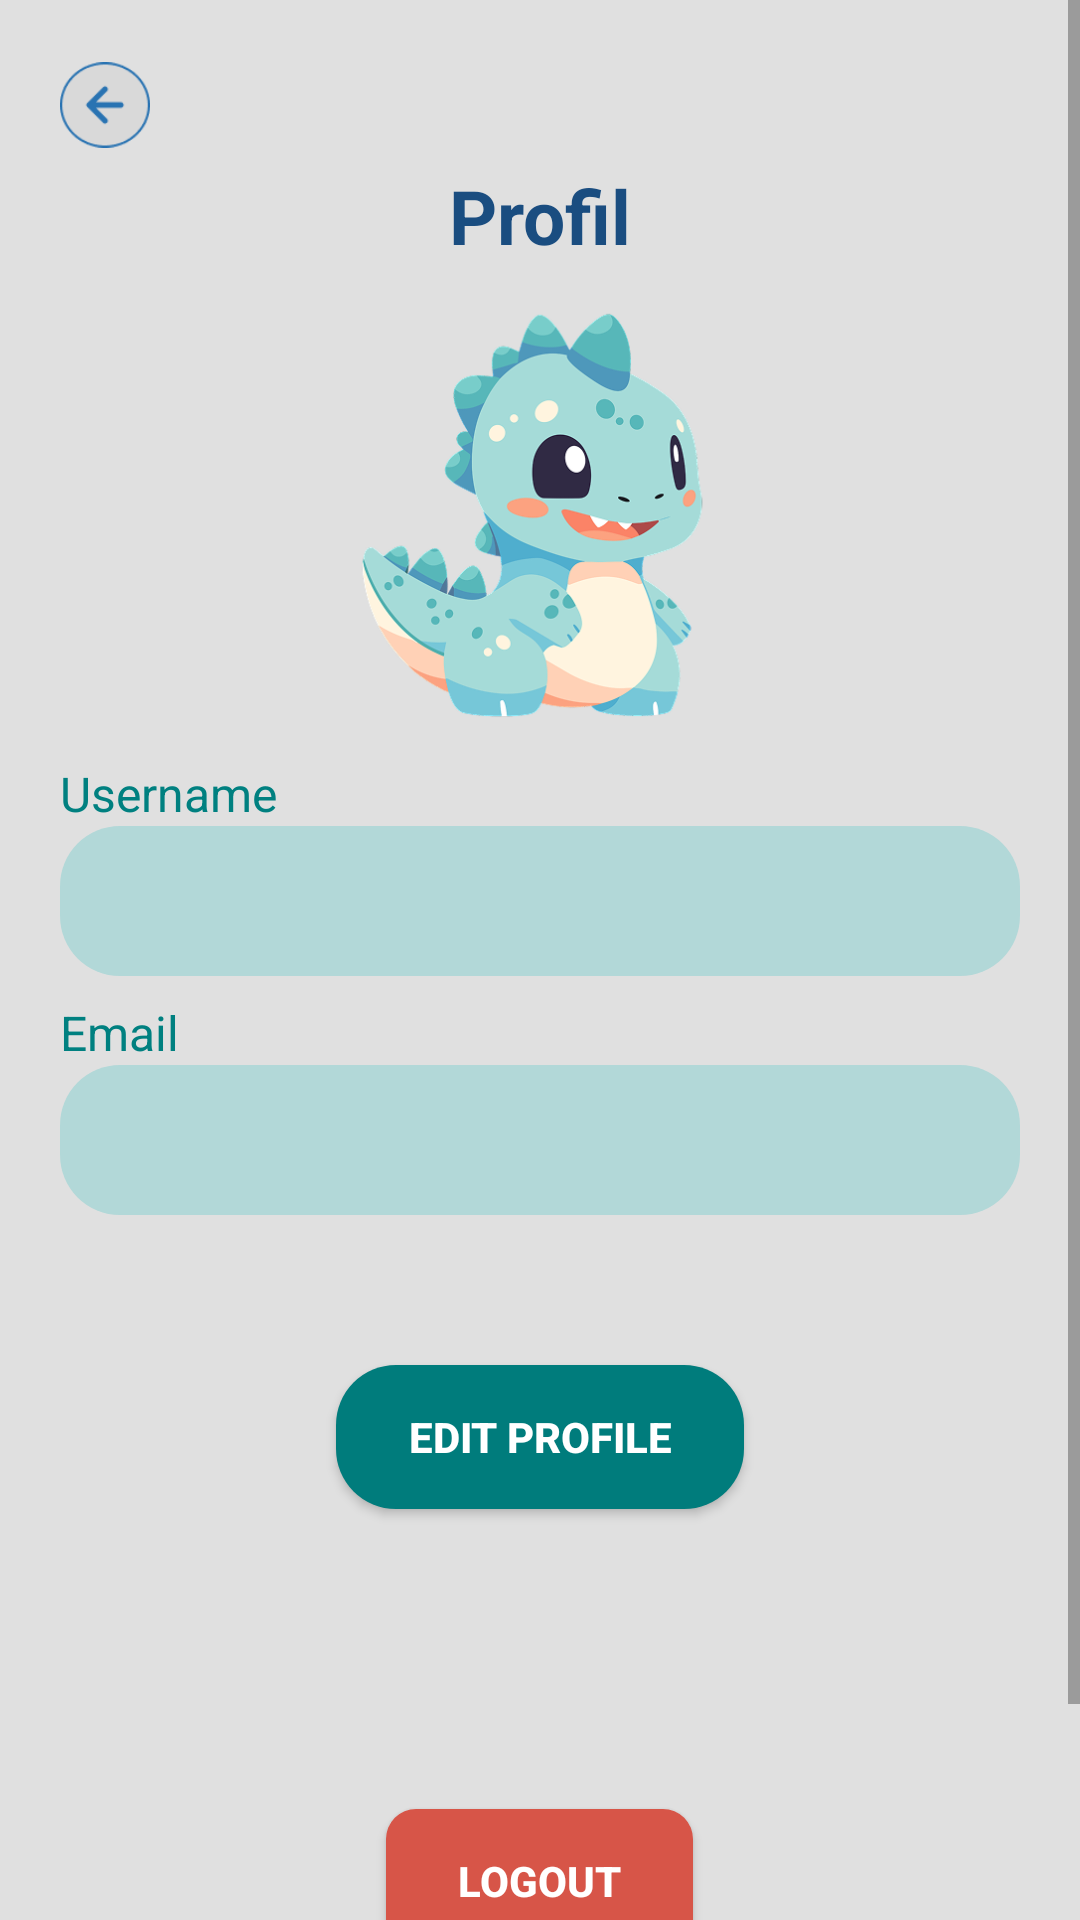

Where icons sit on this 1080x1920 app screen, as (x1, y1, x2, y2):
Back: (60, 62, 150, 148)
